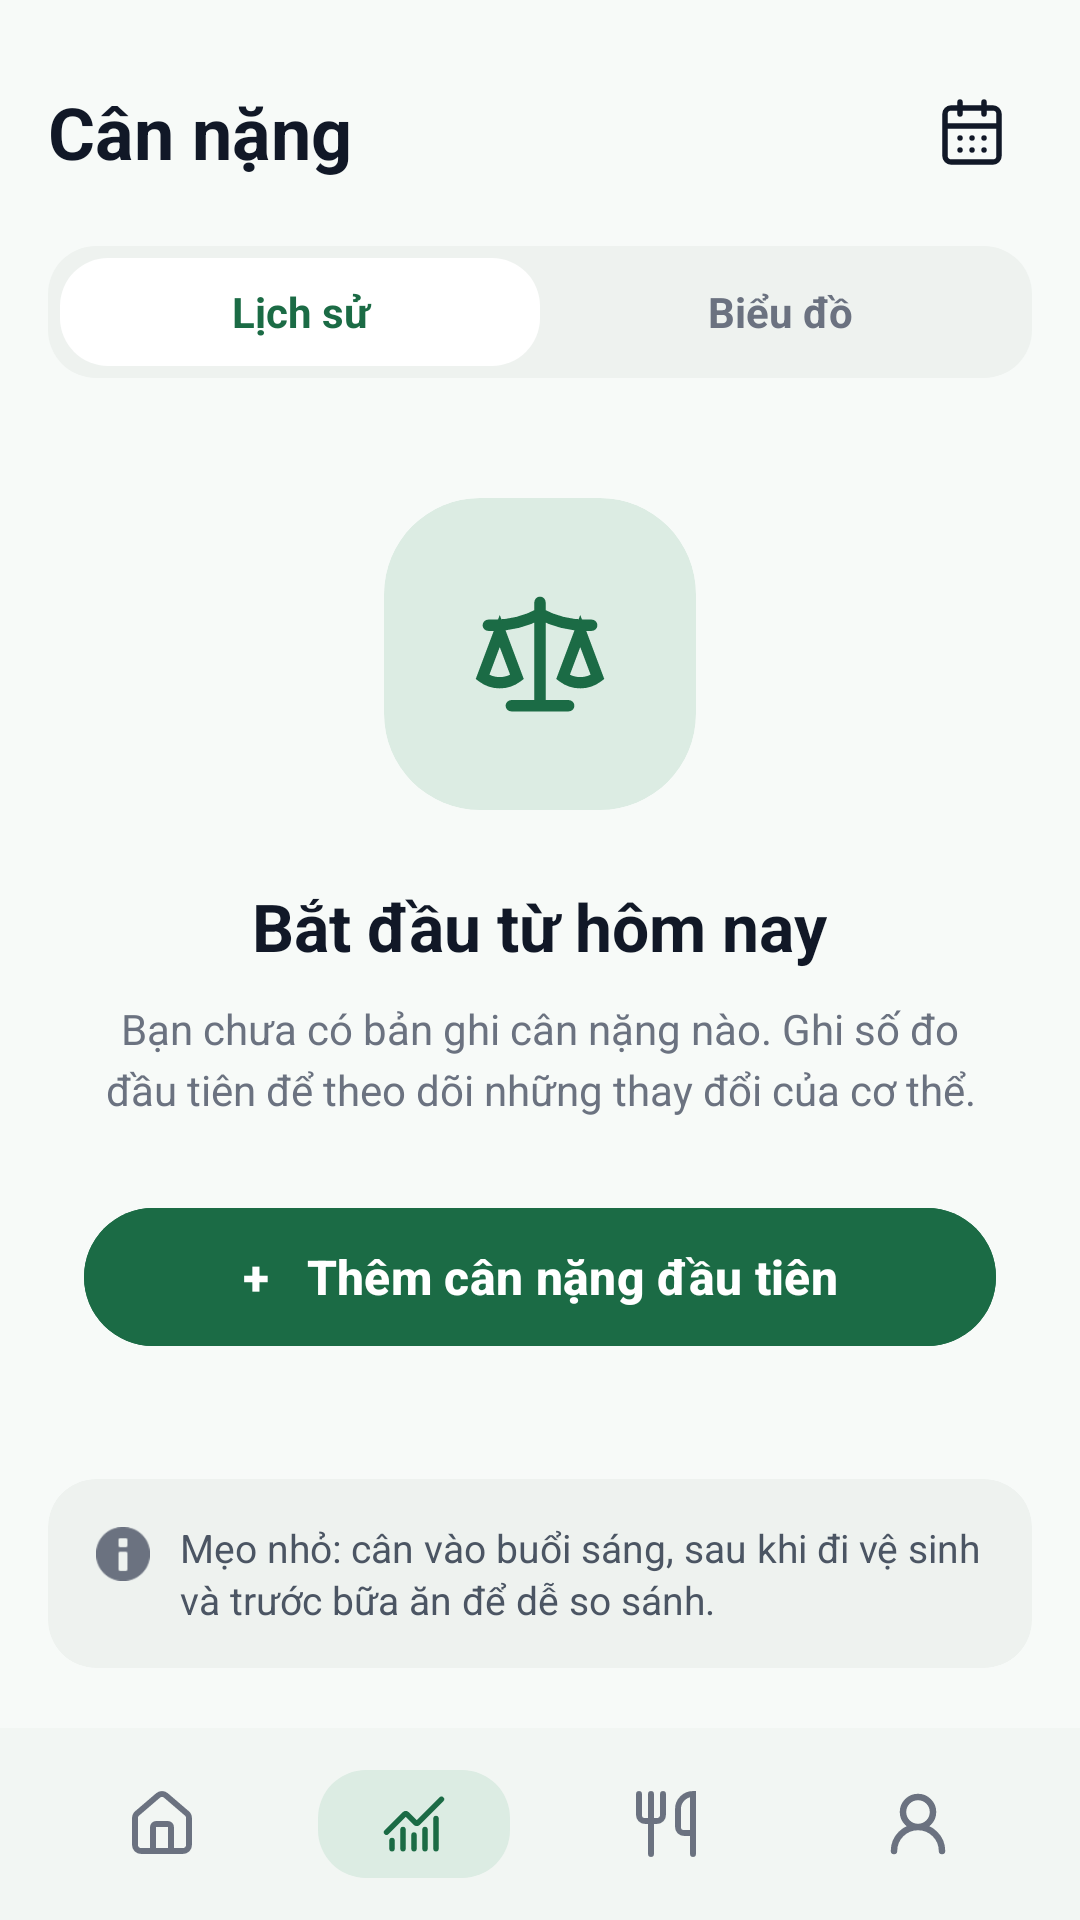

Icons on this 1080×1920 Android screen, each with the point to tap as point (x, y):
Biểu tượng cân nặng: point (540, 654)
Chọn ngày: point (972, 132)
Cân nặng: point (414, 1824)
Hồ sơ: point (918, 1824)
Trang chủ: point (162, 1822)
